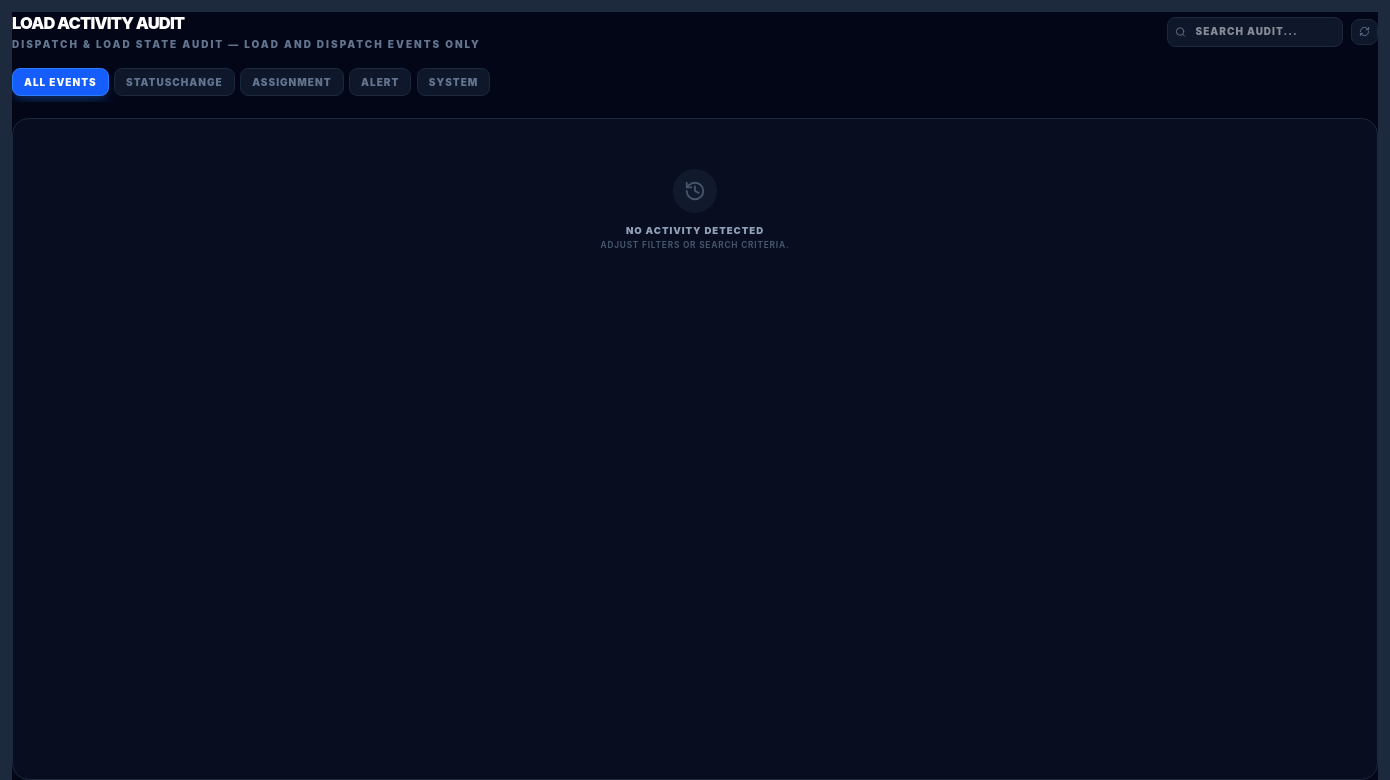
Test case: AuditLogs component › retries fetch when refresh button is clicked
Check: the heading "No Activity Detected" is shown, box [626,224,764,238]
Note: Click the refresh button (RefreshCw icon button with title "Refresh")
Click the button titled "Refresh" at [1365, 32], box [1351,18,1378,45]
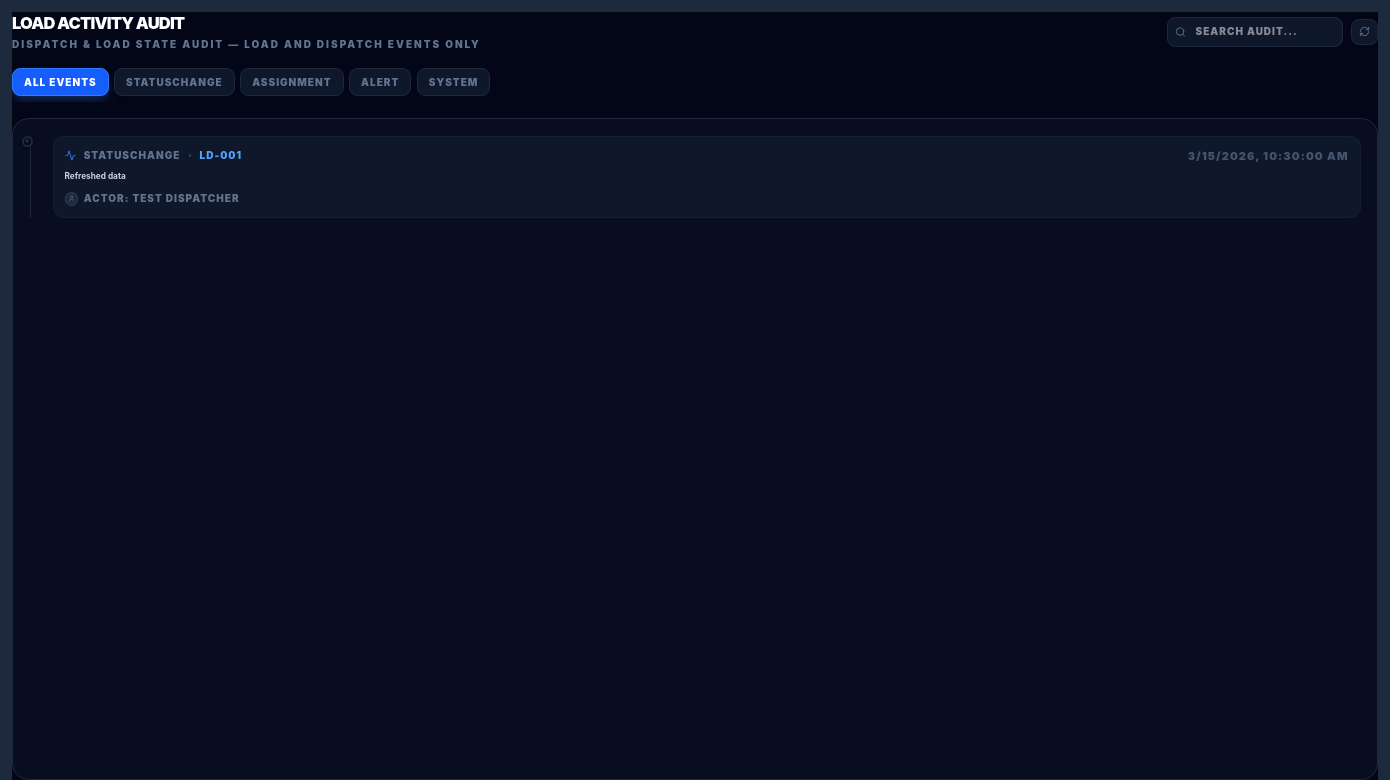
Check: the text "Refreshed data" is shown, box [64,171,126,181]
